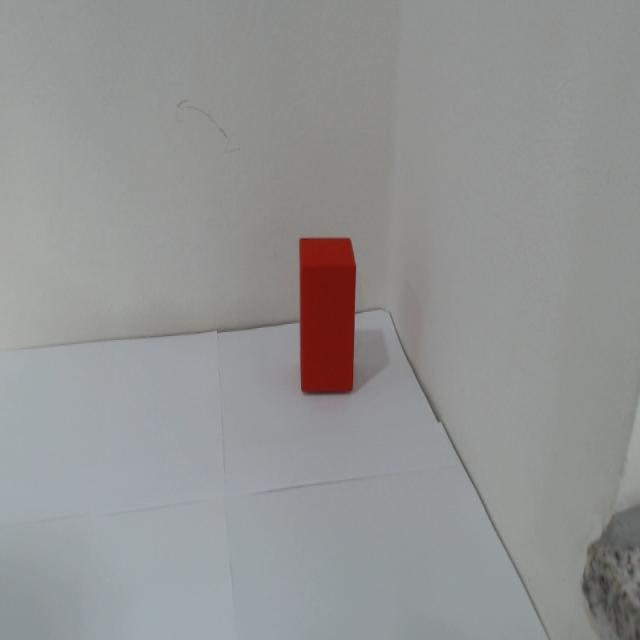cube: (300, 236, 359, 394)
